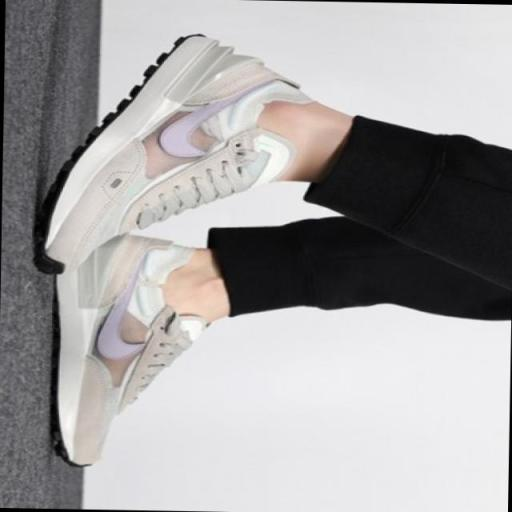Nike: (150, 72, 277, 162)
